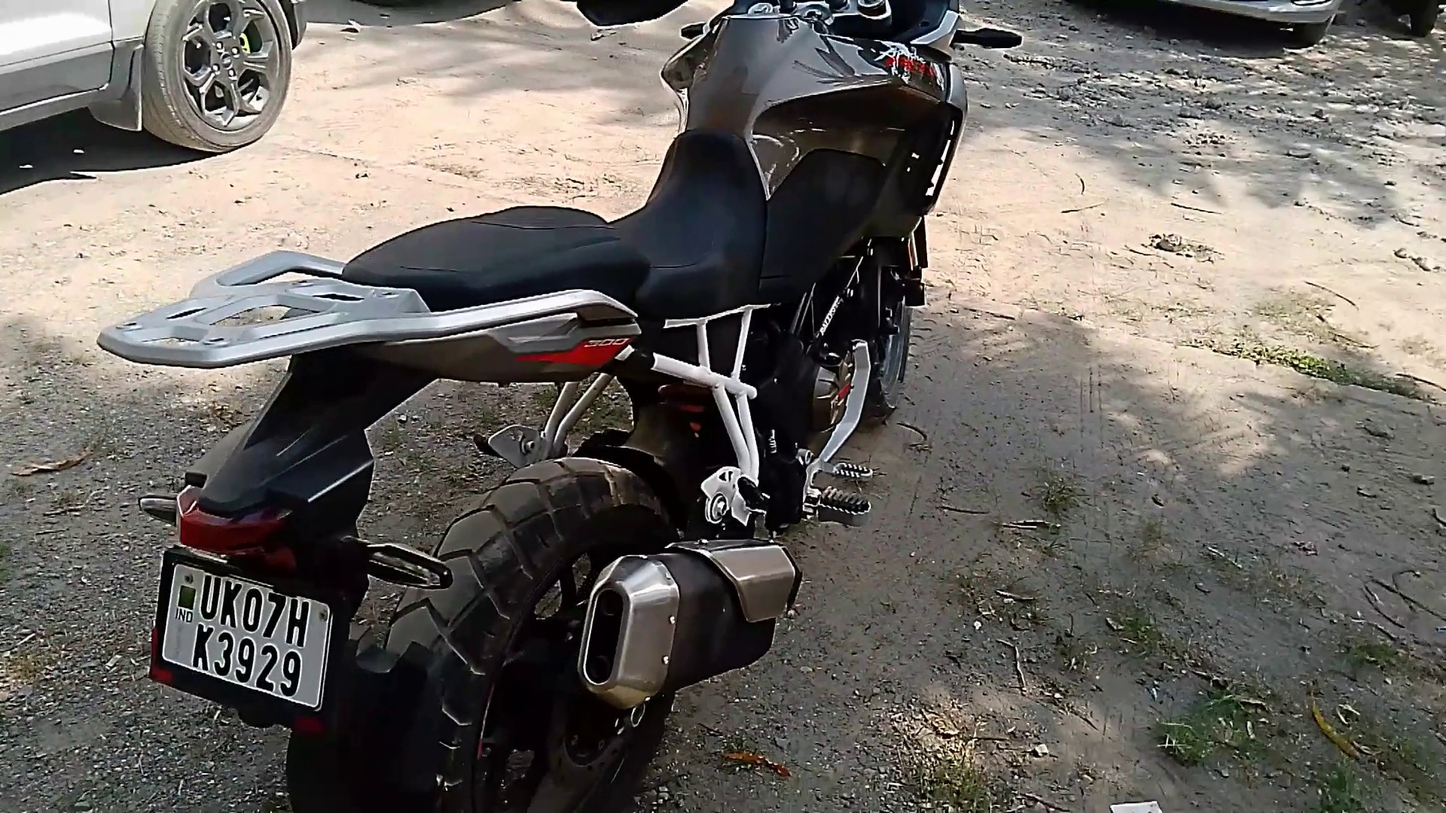engine: (800, 314, 859, 455)
